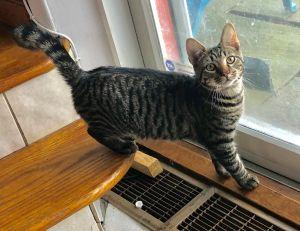bengal: (182, 23, 253, 92)
